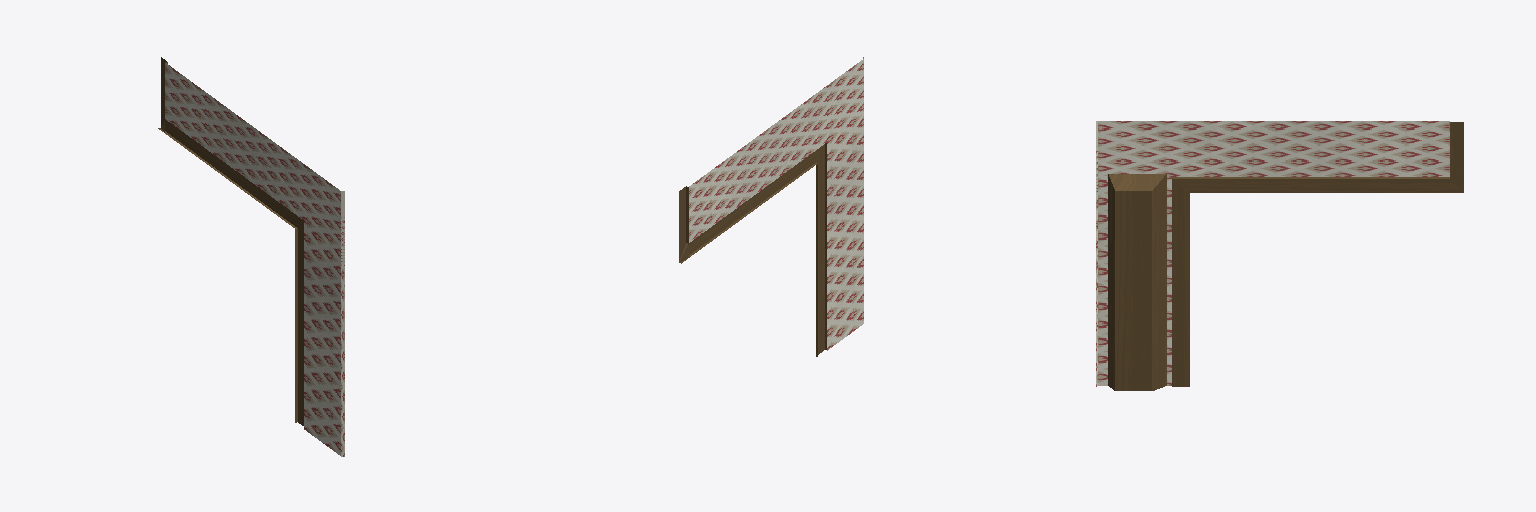
3 renders of one model, left to right at view 1: azimuth 30°, elevation 25°; view 2: azimuth 150°, elevation 25°; view 3: azimuth 270°, elevation 25°, orthographic.
Parts seen in each view (by area): view 1: Plane; view 2: Plane; view 3: Plane.
Part boxes in pixels (left/top/right/bottom): Plane: left=158, top=57, right=344, bottom=456; Plane: left=679, top=57, right=863, bottom=356; Plane: left=1096, top=121, right=1463, bottom=390.
Size of the model in its own units: 0.0886 by 2 by 2.52.
Materials: 1 (1 with a texture image).